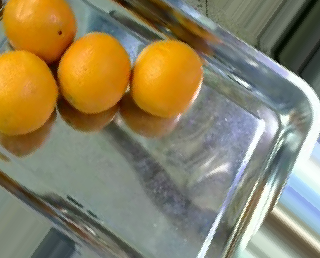Orange: (56, 31, 129, 113), (130, 39, 204, 118), (1, 50, 57, 134), (2, 1, 75, 61)
